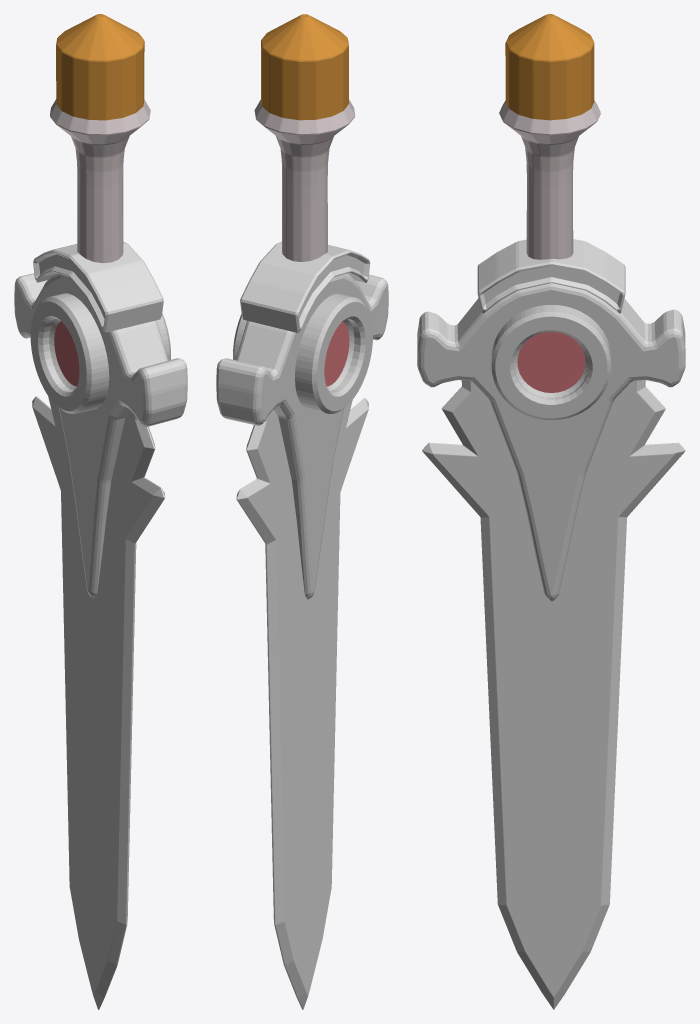
The model's file is megasword.fbx.
The picture shows the model from 3 angles, left to right: view 1: azimuth 30°, elevation 25°; view 2: azimuth 150°, elevation 25°; view 3: azimuth 270°, elevation 25°; orthographic projection.
Visible parts, largest first — view 1: Plane.004, Plane, Plane.003, Cylinder, Plane.002; view 2: Plane.004, Plane, Plane.003, Cylinder, Plane.002; view 3: Plane.004, Plane.003, Plane, Cylinder, Plane.002.
Part boxes in pixels (x1,y1,x2,y2): Plane.004: [32, 396, 165, 1009]; Plane: [50, 14, 150, 263]; Plane.003: [14, 273, 187, 598]; Cylinder: [30, 293, 170, 413]; Plane.002: [33, 241, 163, 332]; Plane.004: [236, 398, 368, 1009]; Plane: [254, 14, 355, 261]; Plane.003: [216, 273, 388, 599]; Cylinder: [233, 293, 372, 413]; Plane.002: [240, 241, 370, 332]; Plane.004: [422, 380, 685, 1009]; Plane.003: [417, 283, 685, 601]; Plane: [499, 14, 600, 259]; Cylinder: [491, 305, 611, 419]; Plane.002: [477, 239, 625, 313].
Bounding box in the file's own units: 103 × 1113 × 272.
